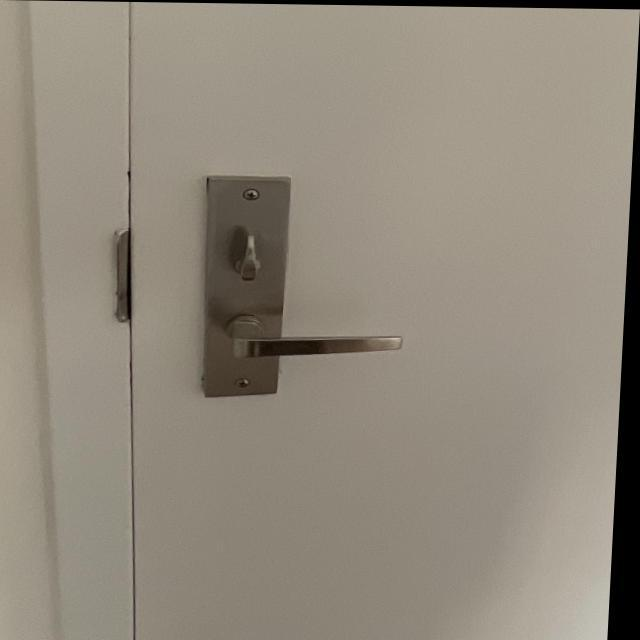door_handle: (203, 299, 430, 378)
